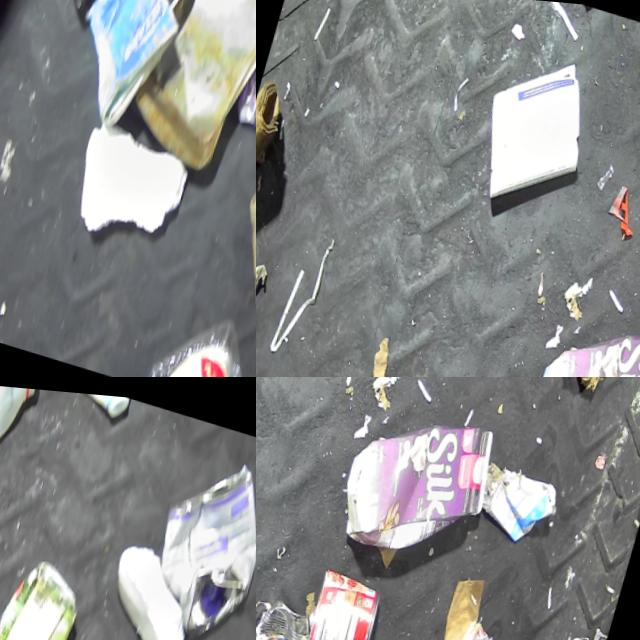can: (137, 433, 256, 640), (0, 540, 92, 640), (307, 557, 394, 640), (256, 586, 325, 640), (440, 603, 529, 640)
milk_jug: (0, 377, 39, 475), (49, 385, 134, 418)
non_white_jug: (336, 385, 508, 571), (528, 294, 640, 377)
